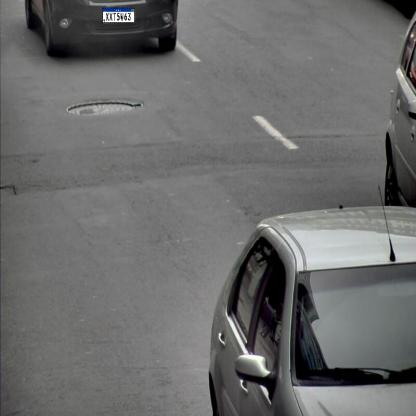PlacaM: (102, 8, 134, 23)
